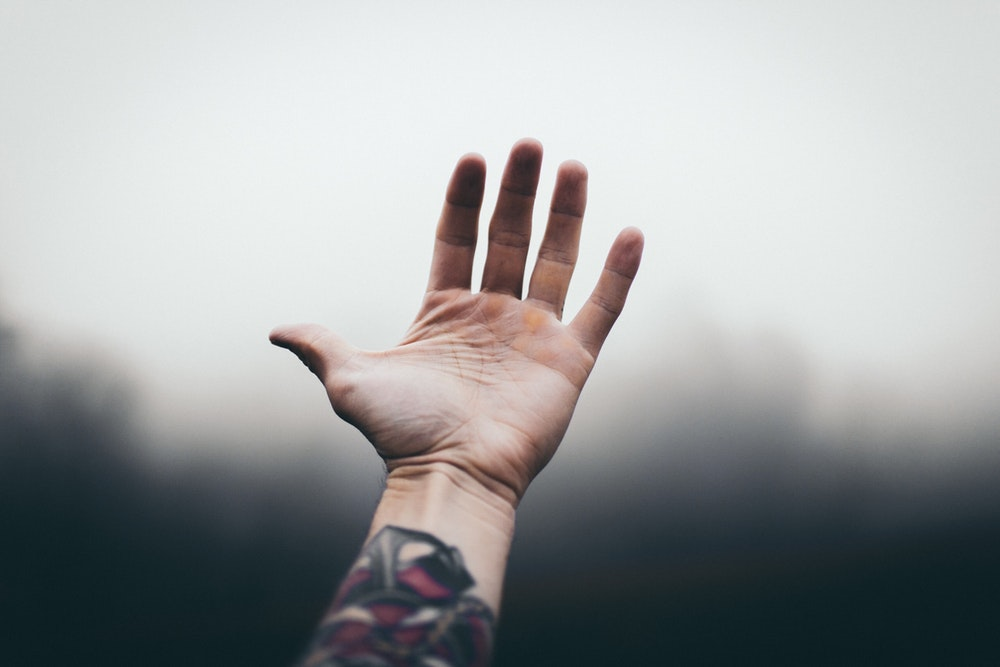palm: (378, 302, 575, 473)
